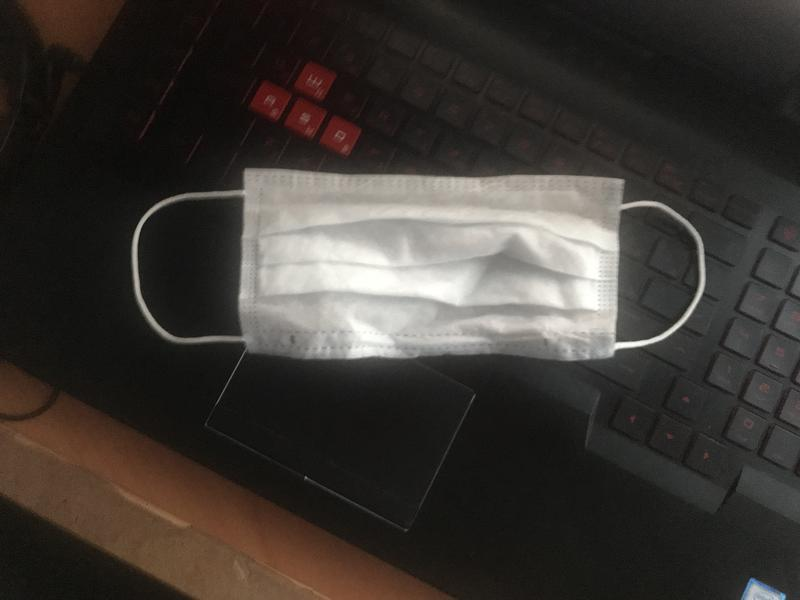medical_mask: (132, 169, 706, 361)
